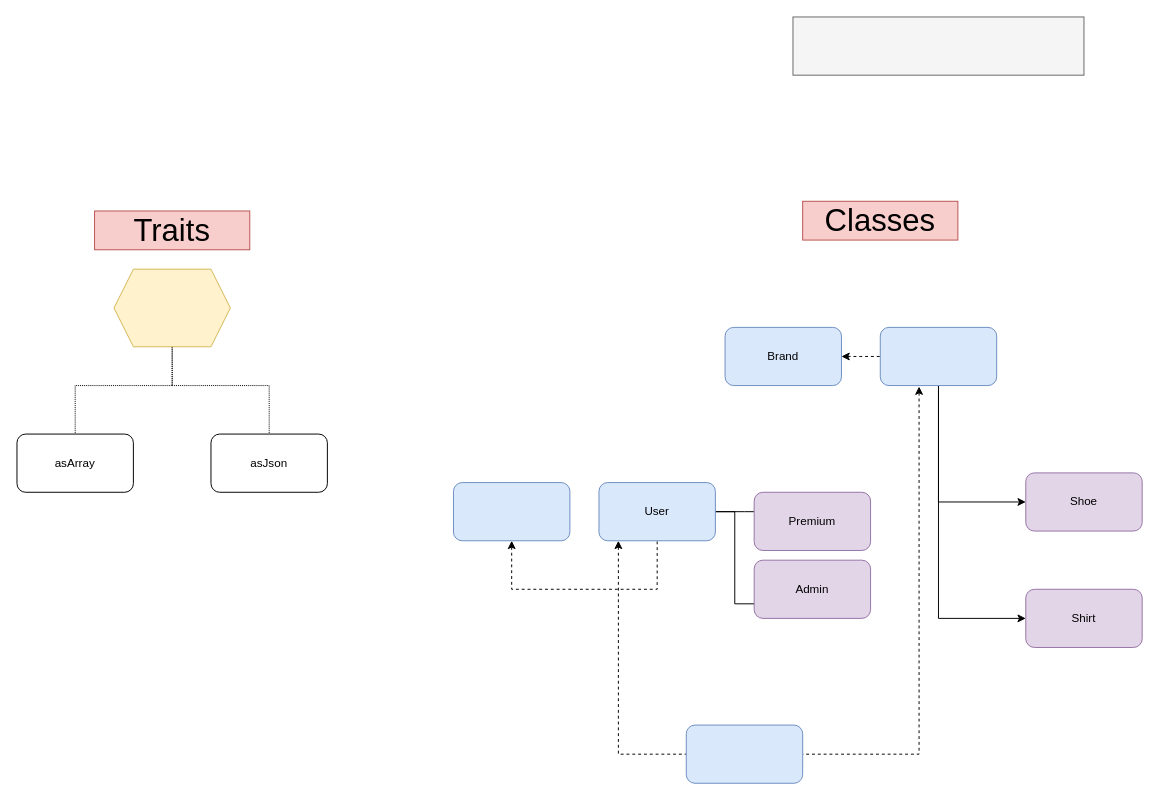
The diagram is 1159 pixels wide and 800 high, and some of its shapes have lost their labels. Each missing label, with the centre of its shape:
"CreditCard" belongs at (511,511).
"ExportData" belongs at (171,307).
"Order" belongs at (744,753).
"Product" belongs at (938,356).
"SHOP OOP" belongs at (938,45).
